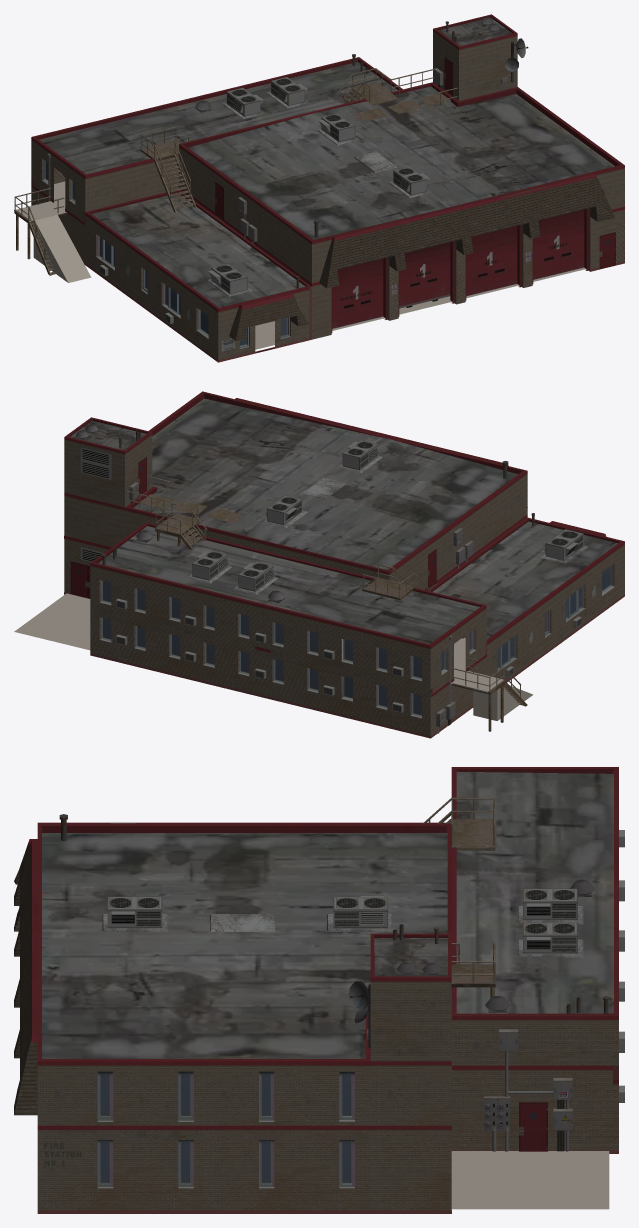
Rendered from fire-station.access-v2.lod1.glb.
3 views of the same model, one above another, from view 1: azimuth 30°, elevation 25°; view 2: azimuth 150°, elevation 25°; view 3: azimuth 270°, elevation 25° (orthographic). The views are drawn at different scales.
Visible parts, largest first — view 1: LOD0_Material #65_0, Walkable floors and stairs; view 2: LOD0_Material #65_0, Walkable floors and stairs; view 3: LOD0_Material #65_0, Walkable floors and stairs.
Boxes of the visible parts, bbox=[...] form: LOD0_Material #65_0: bbox=[14, 14, 624, 362]; Walkable floors and stairs: bbox=[16, 181, 585, 349]; LOD0_Material #65_0: bbox=[64, 391, 624, 738]; Walkable floors and stairs: bbox=[14, 593, 532, 720]; LOD0_Material #65_0: bbox=[14, 767, 624, 1213]; Walkable floors and stairs: bbox=[451, 1151, 609, 1209].
Size of the model in its own units: 31.27 by 10.57 by 23.61.
2 materials, 1 textured.
